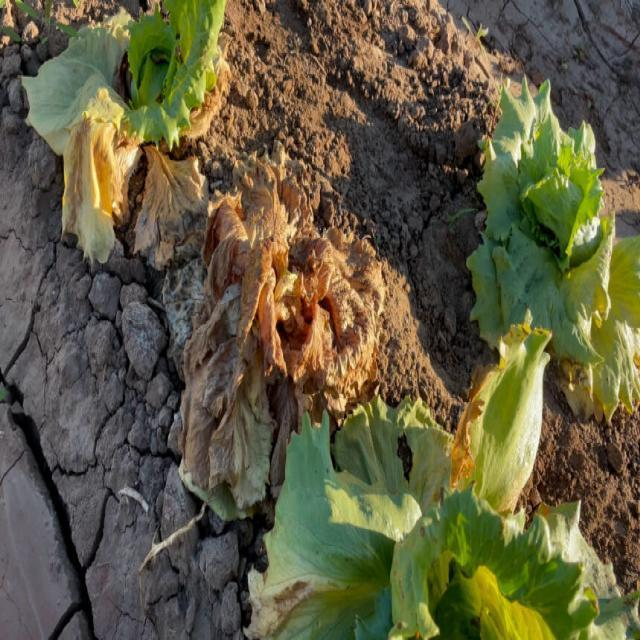Wilt_and_leaf_blight_on_lettuce: (214, 210, 358, 422), (60, 54, 208, 254), (432, 321, 546, 513), (545, 188, 635, 392)
